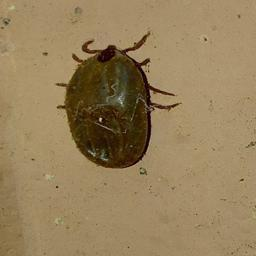Rhipicephalus sanguineus: (55, 29, 182, 169)
